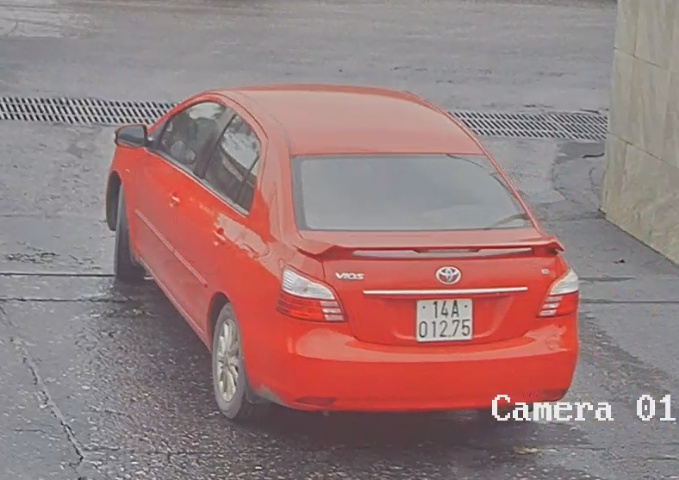vehicle plate: (417, 295, 481, 342)
